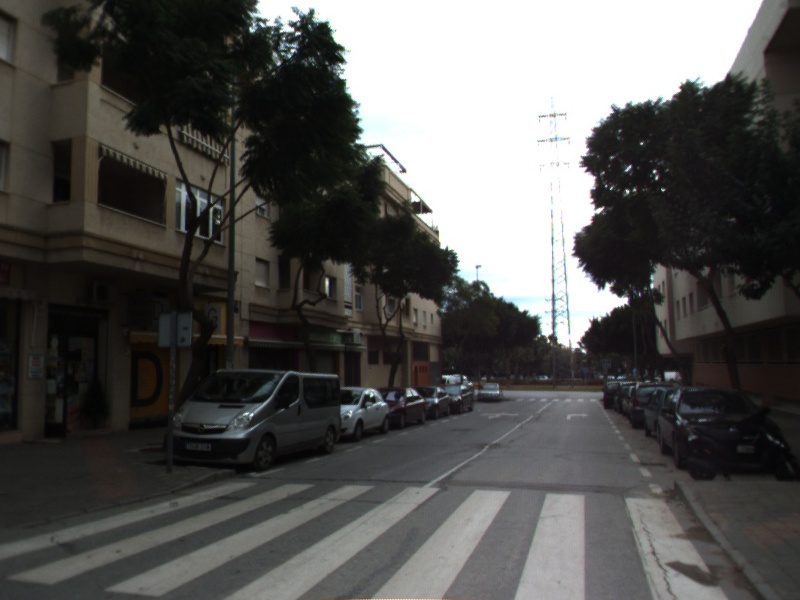RIGHT: (565, 411, 591, 421)
